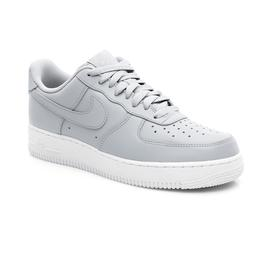nike: (31, 90, 108, 131)
